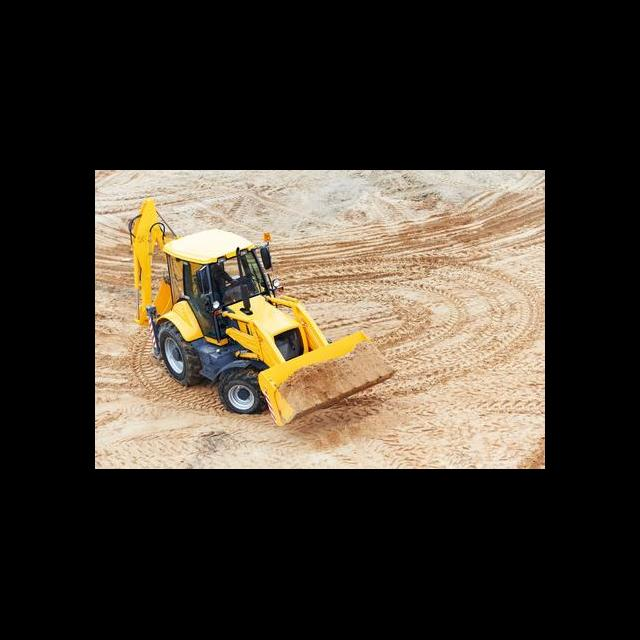Person: (206, 266, 236, 294)
wheel loader: (129, 182, 397, 428)
